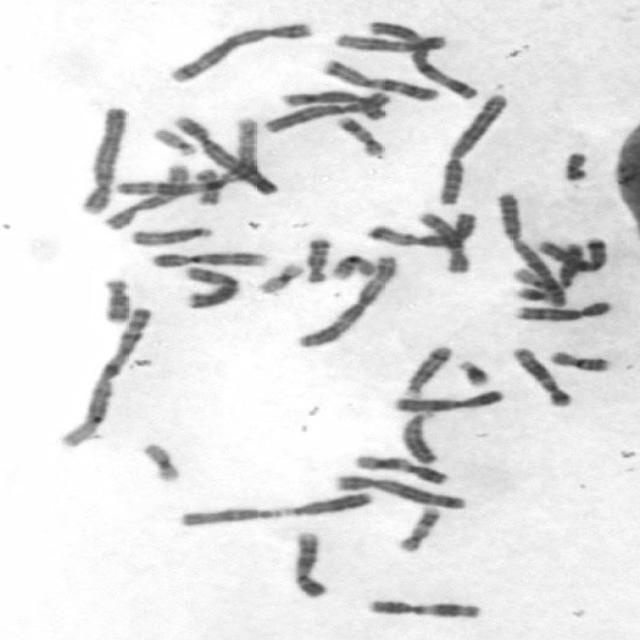A1: (58, 306, 158, 452), (111, 115, 257, 197)
A2: (492, 190, 572, 309), (436, 93, 514, 206)
A3: (294, 250, 401, 348), (365, 18, 479, 101)
B4: (167, 112, 282, 197), (74, 102, 130, 216)
B5: (165, 18, 313, 85), (332, 473, 469, 511)
C10: (99, 162, 194, 231), (413, 208, 472, 275)
C11: (350, 451, 451, 486), (363, 596, 483, 619)
C12: (507, 343, 573, 408), (336, 30, 452, 53)
C6: (258, 89, 394, 136), (366, 210, 482, 248)
C7: (321, 59, 444, 104), (532, 234, 610, 272)
C8: (280, 87, 388, 121), (510, 298, 614, 323)
C9: (289, 529, 329, 598), (146, 249, 271, 269)
D13: (397, 408, 440, 466), (284, 491, 374, 518)
D14: (400, 342, 455, 397), (556, 242, 585, 290)
D15: (180, 507, 283, 529), (126, 224, 215, 247)
E16: (545, 348, 612, 372), (328, 252, 378, 281)
E17: (393, 504, 442, 553), (334, 114, 386, 158)
E18: (96, 275, 134, 324), (301, 235, 332, 284)
F19: (136, 440, 182, 483), (254, 261, 306, 295)
F20: (189, 166, 223, 206), (562, 149, 588, 182)
G21: (452, 357, 492, 388), (514, 284, 550, 303)
G22: (148, 126, 198, 157), (508, 266, 550, 290)
X: (386, 386, 504, 413), (184, 264, 244, 312)
